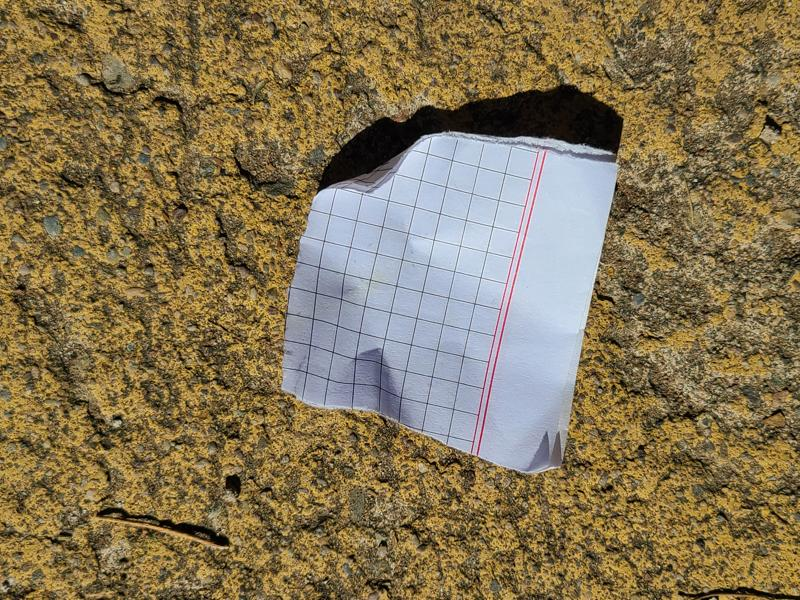papel: (282, 131, 618, 477)
